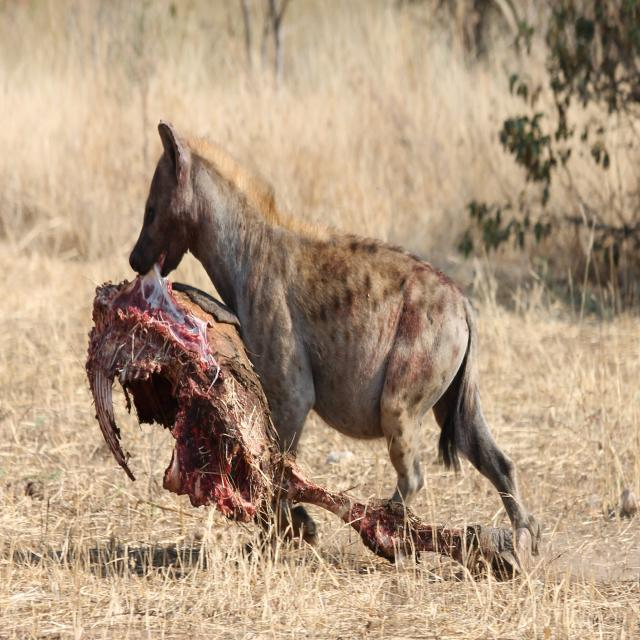Hyena: (124, 115, 543, 574)
